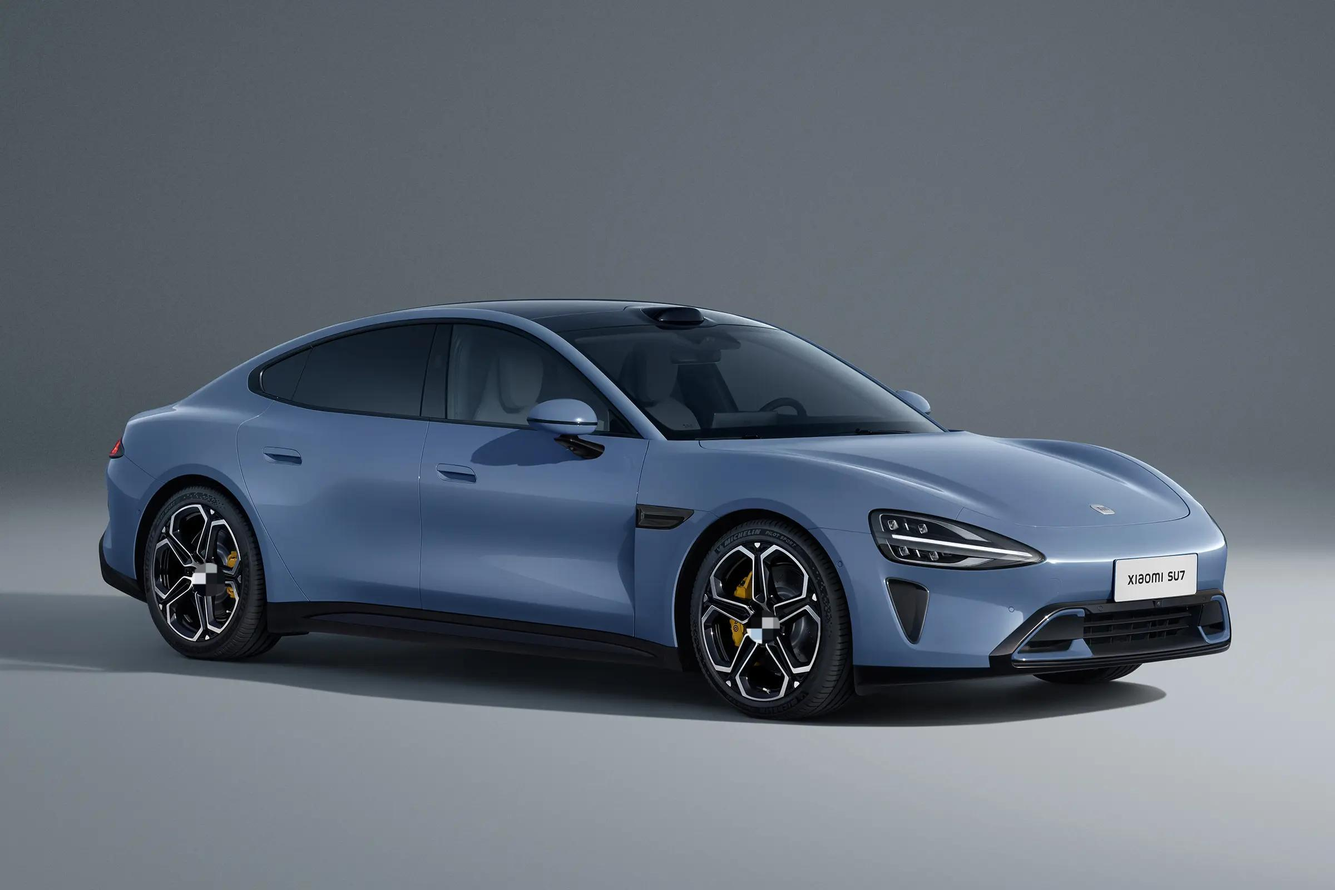XIAOMI: (1090, 504, 1115, 515)
